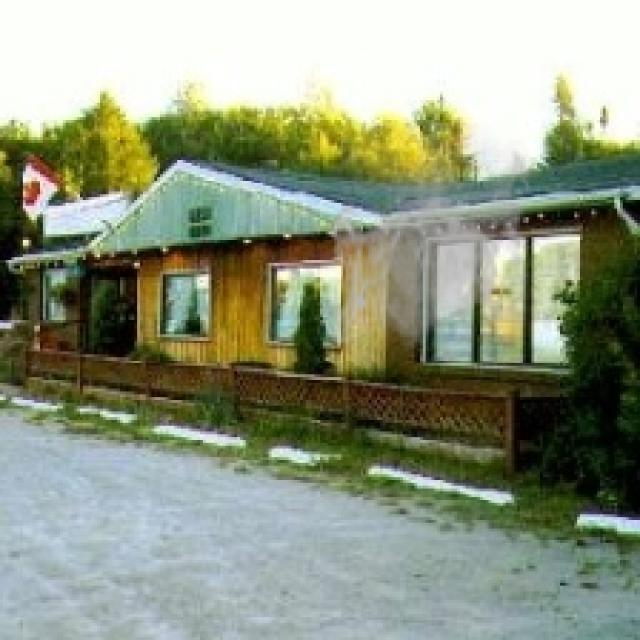smoke: (326, 123, 537, 351)
